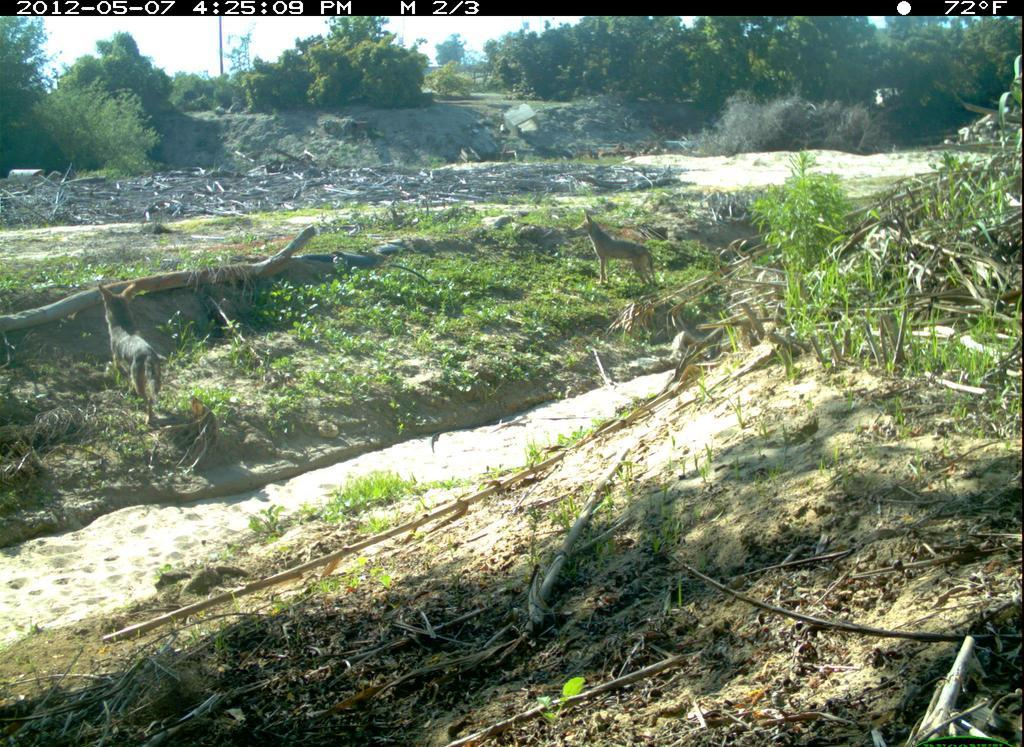coyote: (96, 280, 166, 431), (569, 212, 665, 294)
